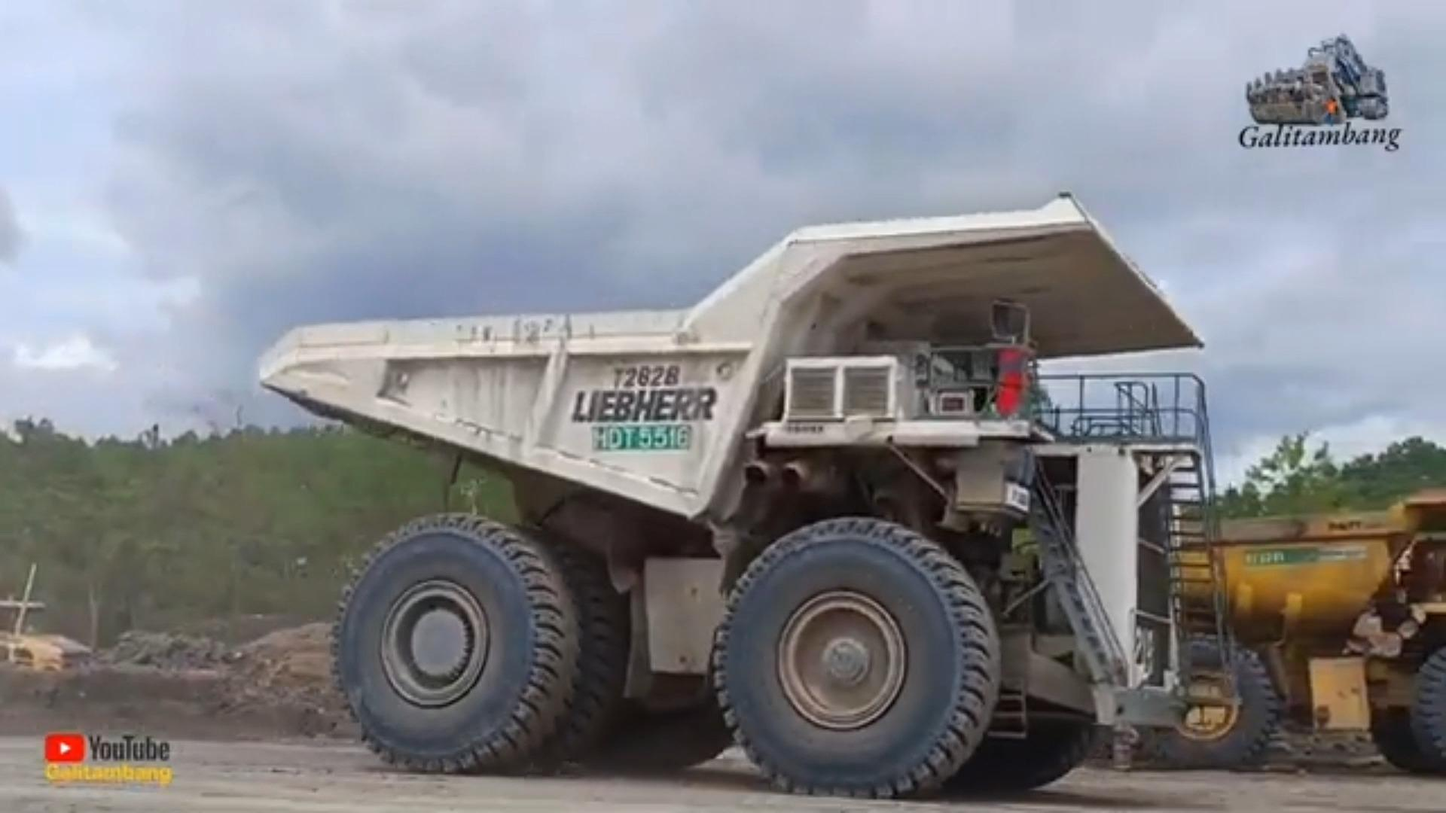HD-Truck: (258, 192, 1242, 799)
